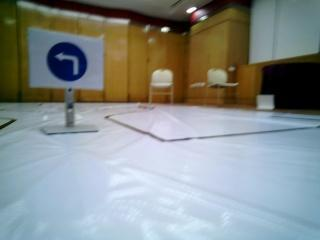left: (34, 36, 100, 82)
